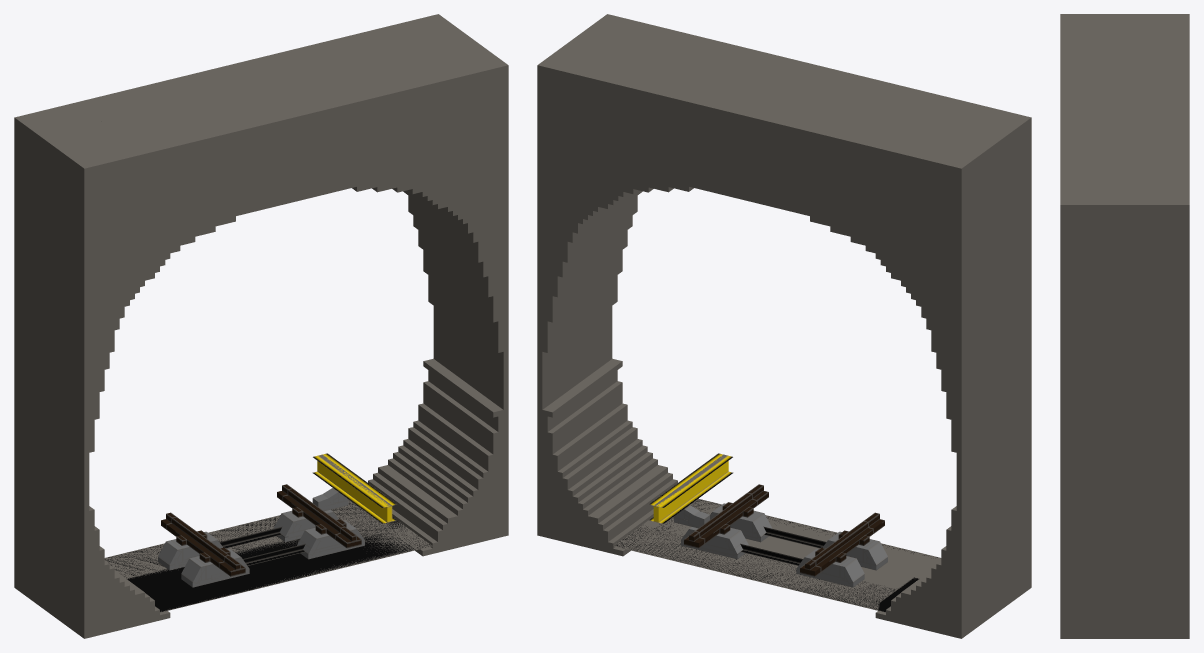
The model's file is athen-metro-rail-tunnel-1.obj.
3 renders of one model, left to right at view 1: azimuth 30°, elevation 25°; view 2: azimuth 150°, elevation 25°; view 3: azimuth 270°, elevation 25°, orthographic. The views are drawn at different scales.
Parts seen in each view (by area): view 1: cube; view 2: cube; view 3: cube.
Boxes of the visible parts, x1=… form: cube: x1=14, y1=14, x2=508, y2=638; cube: x1=537, y1=14, x2=1031, y2=638; cube: x1=1060, y1=14, x2=1189, y2=638.
Bounding box in the file's own units: 5.25 × 5.56 × 1.5.
1 material, 1 textured.
